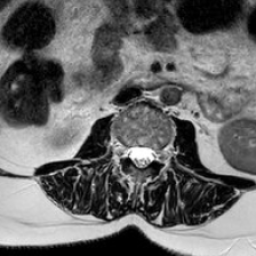CCS_normal: (137, 134, 146, 178)
LFS_normal: (156, 135, 165, 173)
LLS_normal: (146, 137, 156, 172)
RFS_normal: (118, 133, 128, 168)
RLS_normal: (128, 134, 137, 171)
